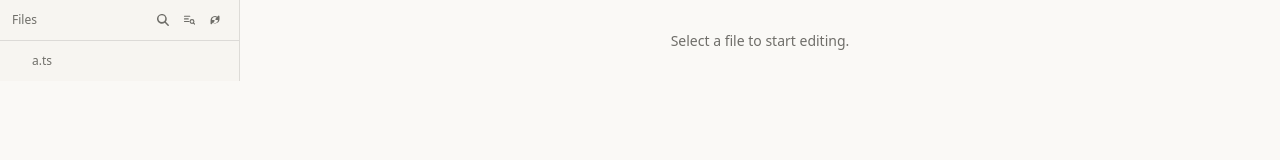
SessionEditorPane › displays file size in the header bar
Click the button "a.ts": click(120, 61) [6,47,233,75]
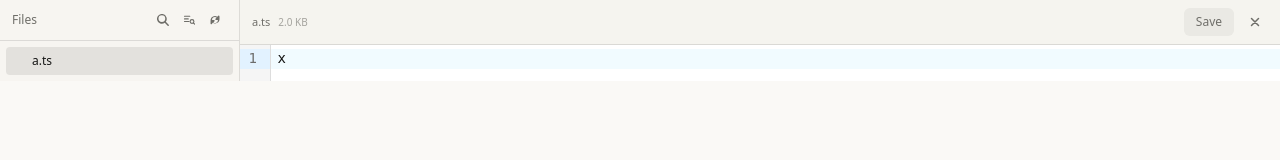
Result: the text "2.0 KB" is shown at [278,14,308,30]
